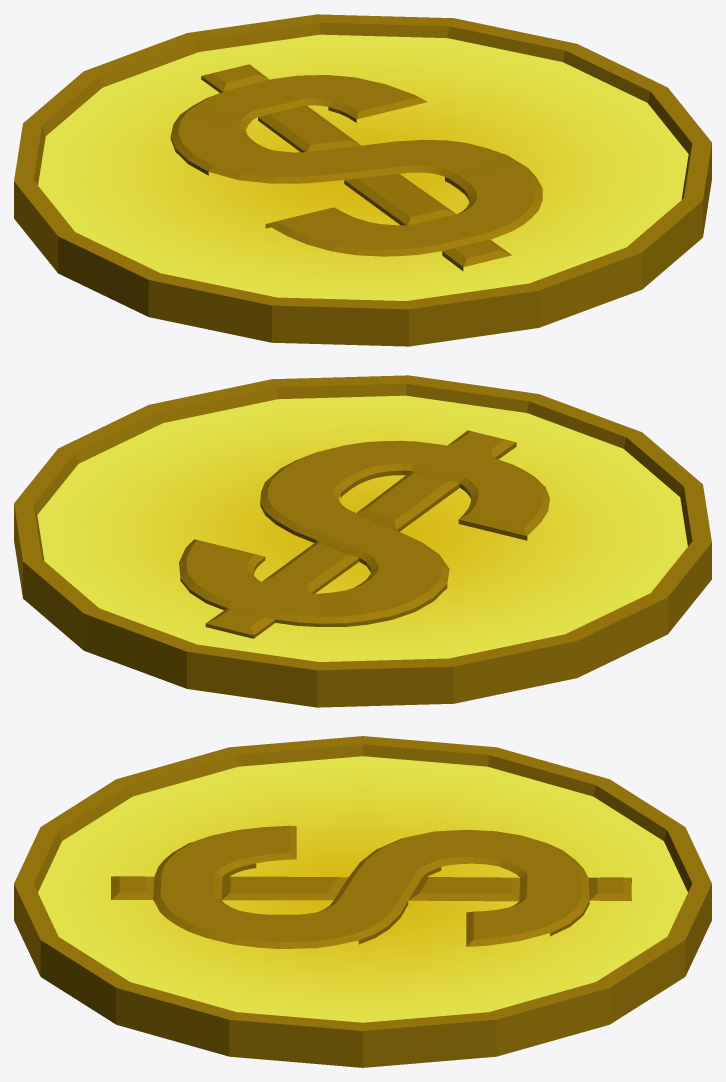
Rendered from coin.fbx.
The picture shows the model from 3 angles, top to bottom: view 1: azimuth 30°, elevation 25°; view 2: azimuth 150°, elevation 25°; view 3: azimuth 270°, elevation 25°; orthographic projection.
Visible parts, largest first — view 1: Coin.001; view 2: Coin.001; view 3: Coin.001.
Part boxes in pixels (x1,y1,x2,y2): Coin.001: [14, 14, 711, 346]; Coin.001: [14, 375, 711, 707]; Coin.001: [14, 736, 711, 1067].
Bounding box in the file's own units: 34.52 × 2.01 × 34.52.
